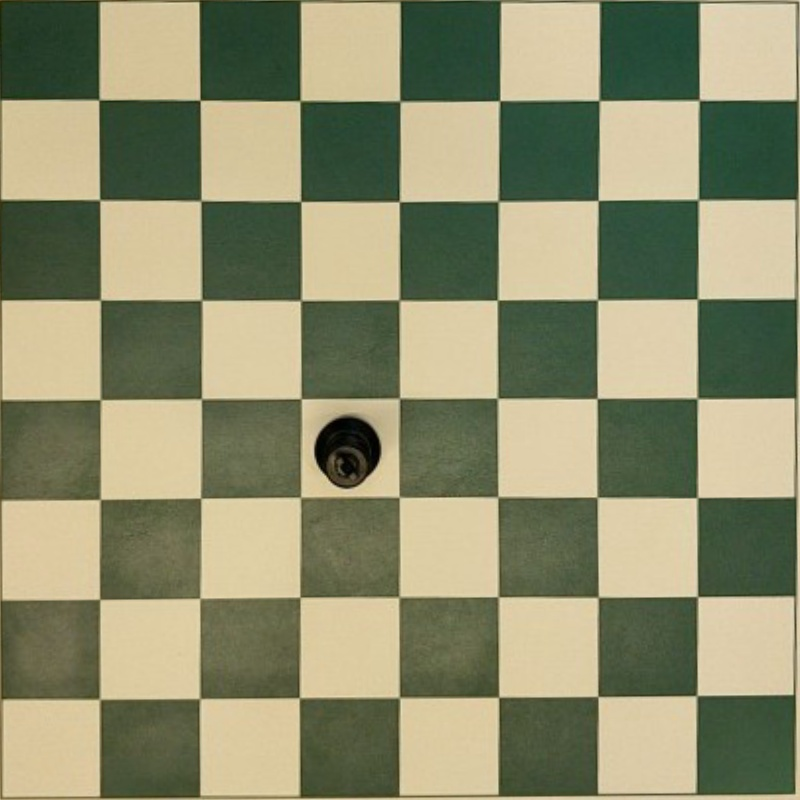black-king: (314, 416, 381, 488)
